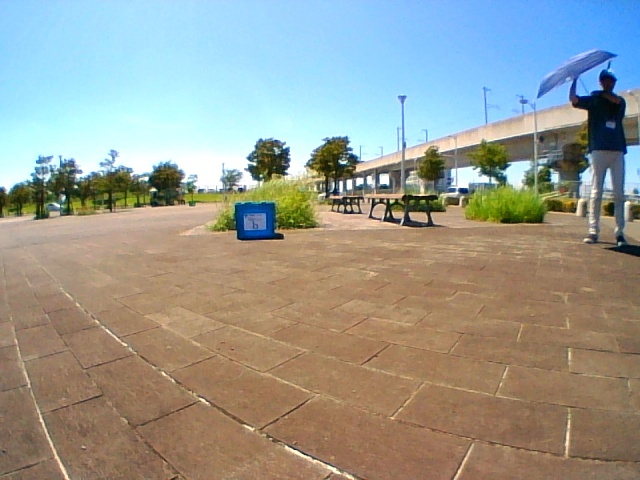blue_box: (235, 202, 275, 239)
tag_b: (244, 214, 267, 229)
